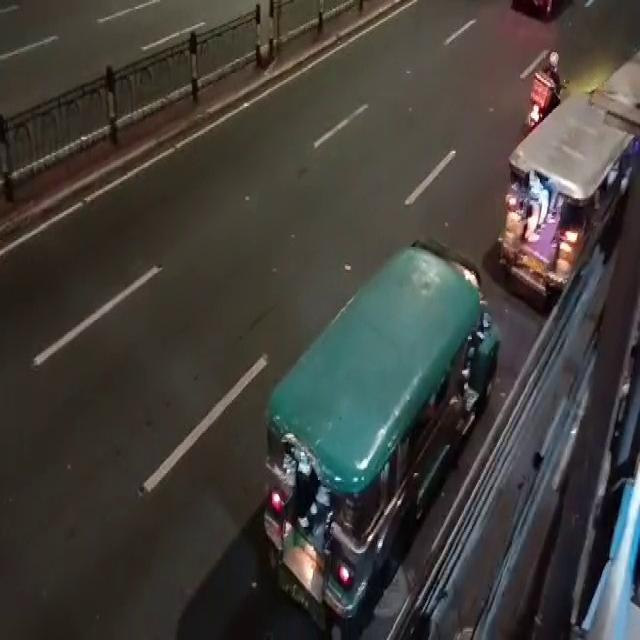jeepney: (258, 227, 517, 638), (499, 81, 636, 310)
motorcycle: (516, 44, 566, 143)
